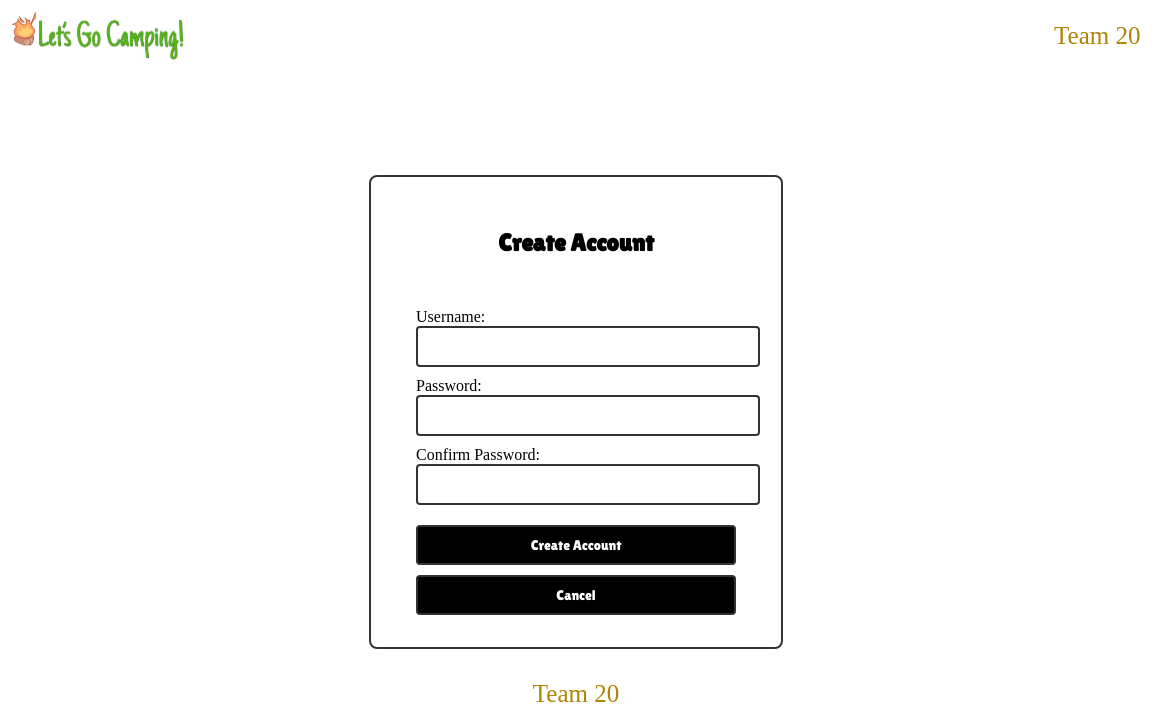
CreateAccount Component › handles cancellation flow correctly
// Trigger the modal/dialog by clicking the Cancel button
Step 1. Click the button "Cancel" → x=576, y=595, box [416,575,736,615]
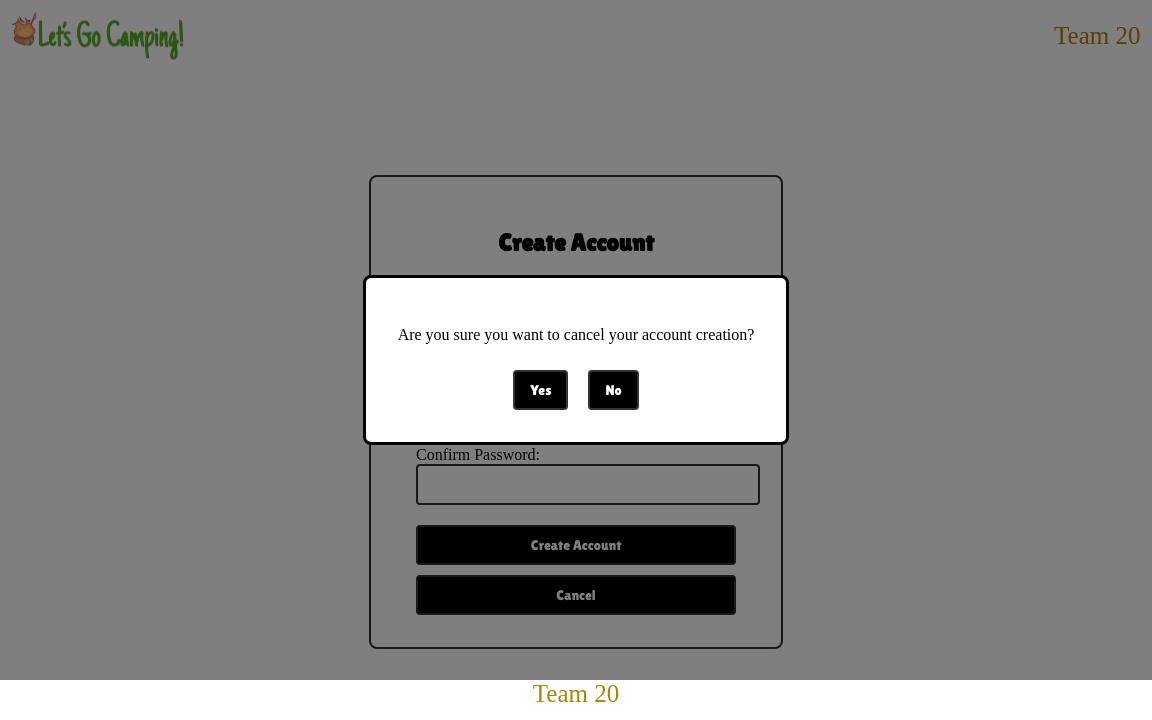
Result: the text "Are you sure you want to cancel your account creation?" is shown at [398,326,754,344]
Step 2. Click the button "No" → x=614, y=390, box [588,370,639,410]
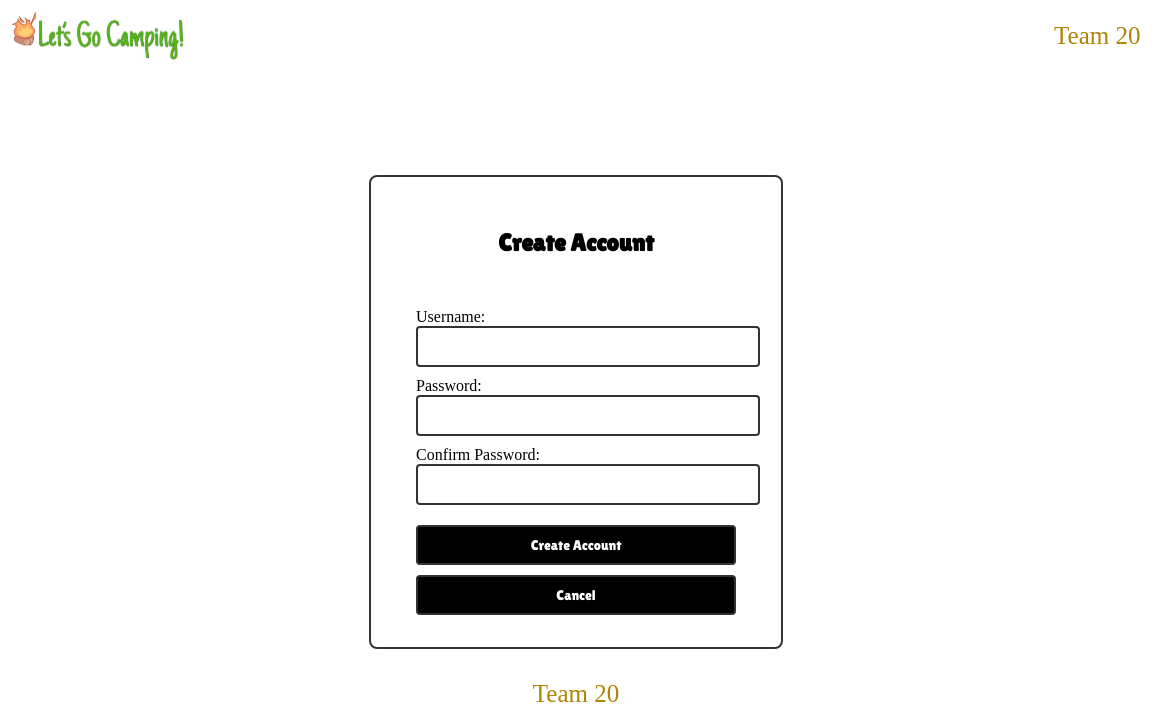
Result: the text "Are you sure you want to cancel your account creation?" is gone
